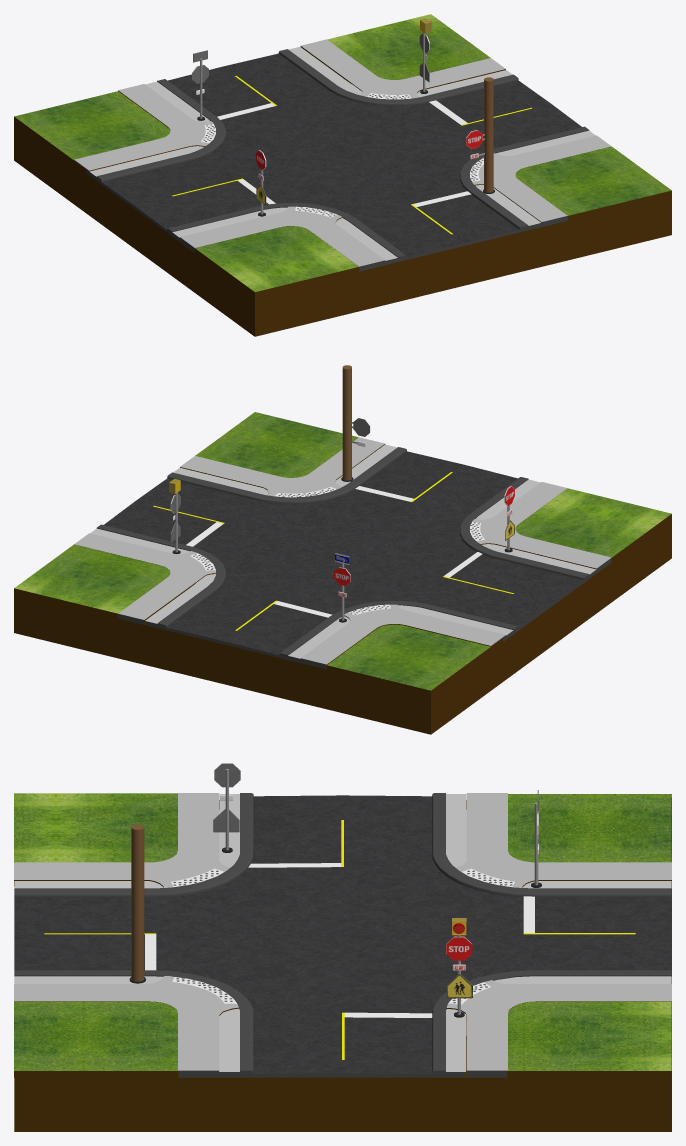
File: RoadV4_Yup_F7lQNFA.gltf
3 renders of one model, top to bottom at view 1: azimuth 30°, elevation 25°; view 2: azimuth 150°, elevation 25°; view 3: azimuth 270°, elevation 25°, orthographic. The views are drawn at different scales.
Visible parts, largest first — view 1: polySurface12, pPlane25, polySurface23, Ground, polySurface17, polySurface46, polySurface52, polySurface48, polySurface47, polySurface35; view 2: polySurface12, pPlane25, polySurface23, Ground, polySurface17, polySurface52, polySurface48, polySurface46, polySurface47, polySurface35; view 3: polySurface12, pPlane25, polySurface23, Ground, polySurface17, polySurface47, polySurface48, polySurface52, polySurface46, polySurface35, polySurface53, polySurface55 (+3 smaller).
Boxes of the visible parts, x1=… form: polySurface12: x1=96, y1=49, x2=589, y2=261; pPlane25: x1=14, y1=121, x2=671, y2=336; polySurface23: x1=194, y1=14, x2=671, y2=296; Ground: x1=14, y1=81, x2=210, y2=180; polySurface17: x1=172, y1=47, x2=595, y2=264; polySurface46: x1=180, y1=206, x2=385, y2=271; polySurface52: x1=74, y1=84, x2=213, y2=175; polySurface48: x1=300, y1=39, x2=505, y2=98; polySurface47: x1=472, y1=135, x2=611, y2=226; polySurface35: x1=484, y1=77, x2=493, y2=192; polySurface12: x1=96, y1=447, x2=589, y2=659; pPlane25: x1=14, y1=519, x2=671, y2=734; polySurface23: x1=14, y1=412, x2=671, y2=618; Ground: x1=288, y1=605, x2=513, y2=694; polySurface17: x1=90, y1=444, x2=596, y2=627; polySurface52: x1=300, y1=604, x2=505, y2=669; polySurface48: x1=74, y1=533, x2=215, y2=624; polySurface46: x1=472, y1=482, x2=611, y2=572; polySurface47: x1=180, y1=437, x2=385, y2=495; polySurface35: x1=342, y1=365, x2=351, y2=480; polySurface12: x1=14, y1=793, x2=671, y2=1077; pPlane25: x1=14, y1=800, x2=671, y2=1131; polySurface23: x1=14, y1=793, x2=671, y2=1077; Ground: x1=446, y1=794, x2=671, y2=888; polySurface17: x1=14, y1=794, x2=671, y2=1077; polySurface47: x1=14, y1=976, x2=238, y2=1077; polySurface48: x1=446, y1=980, x2=671, y2=1077; polySurface52: x1=456, y1=793, x2=671, y2=887; polySurface46: x1=14, y1=793, x2=229, y2=887; polySurface35: x1=131, y1=824, x2=144, y2=981; polySurface53: x1=523, y1=896, x2=635, y2=934; polySurface55: x1=44, y1=933, x2=156, y2=970.
Size of the model in its own units: 15.02 by 5.38 by 15.04.
14 materials, 1 textured.
